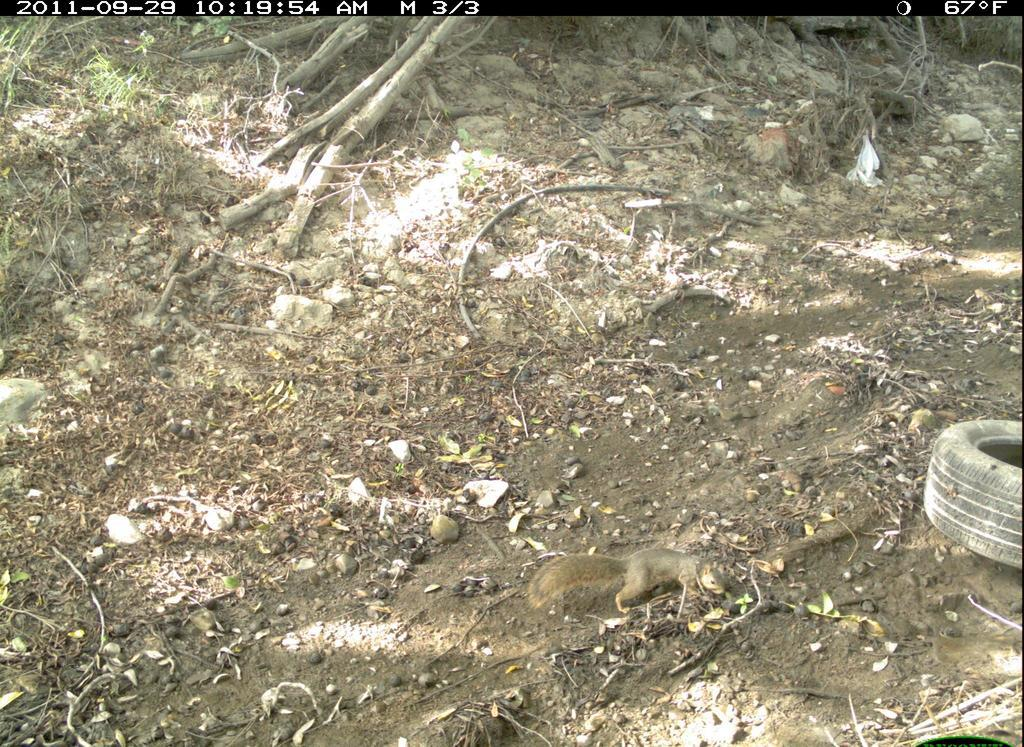squirrel: (511, 533, 737, 624)
